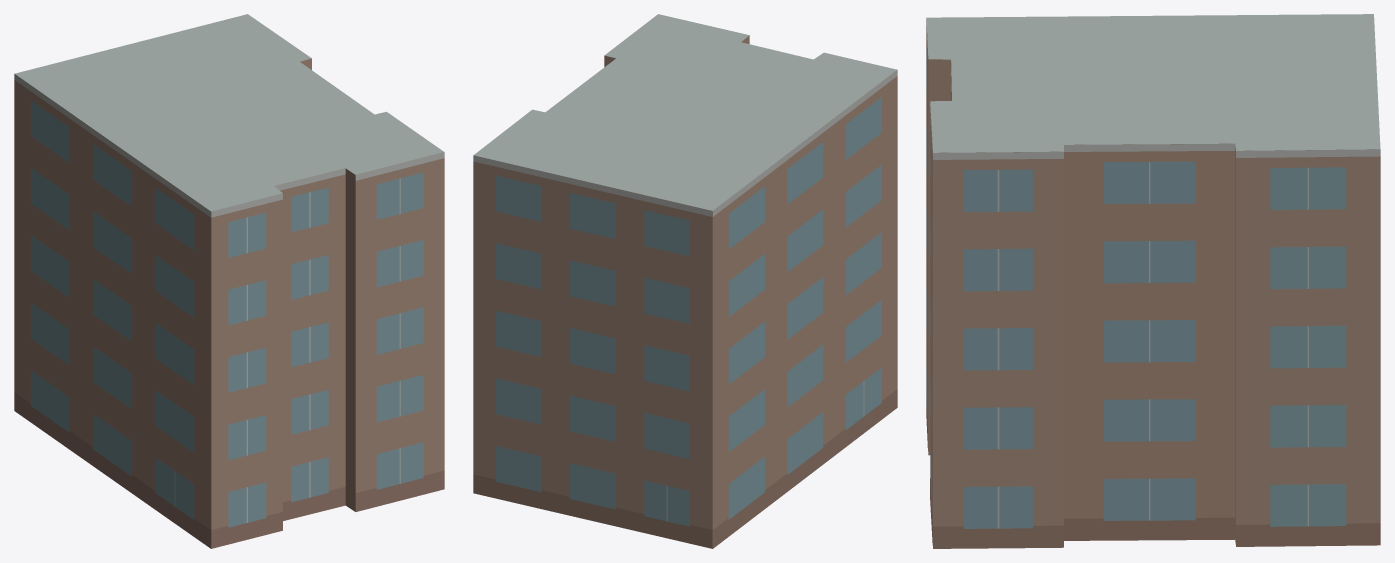
Rendered from survey-upis-32542443.glb.
3 views of the same model, side by side, from view 1: azimuth 30°, elevation 25°; view 2: azimuth 150°, elevation 25°; view 3: azimuth 270°, elevation 25° (orthographic). The views are drawn at different scales.
Visible parts, largest first — view 1: survey-upis-32542443.tmp; view 2: survey-upis-32542443.tmp; view 3: survey-upis-32542443.tmp.
Boxes of the visible parts, <box> form: survey-upis-32542443.tmp: <box>14,14,444,548</box>; survey-upis-32542443.tmp: <box>473,14,897,548</box>; survey-upis-32542443.tmp: <box>926,14,1380,548</box>.
Size of the model in its own units: 10.16 by 13.5 by 14.04.
